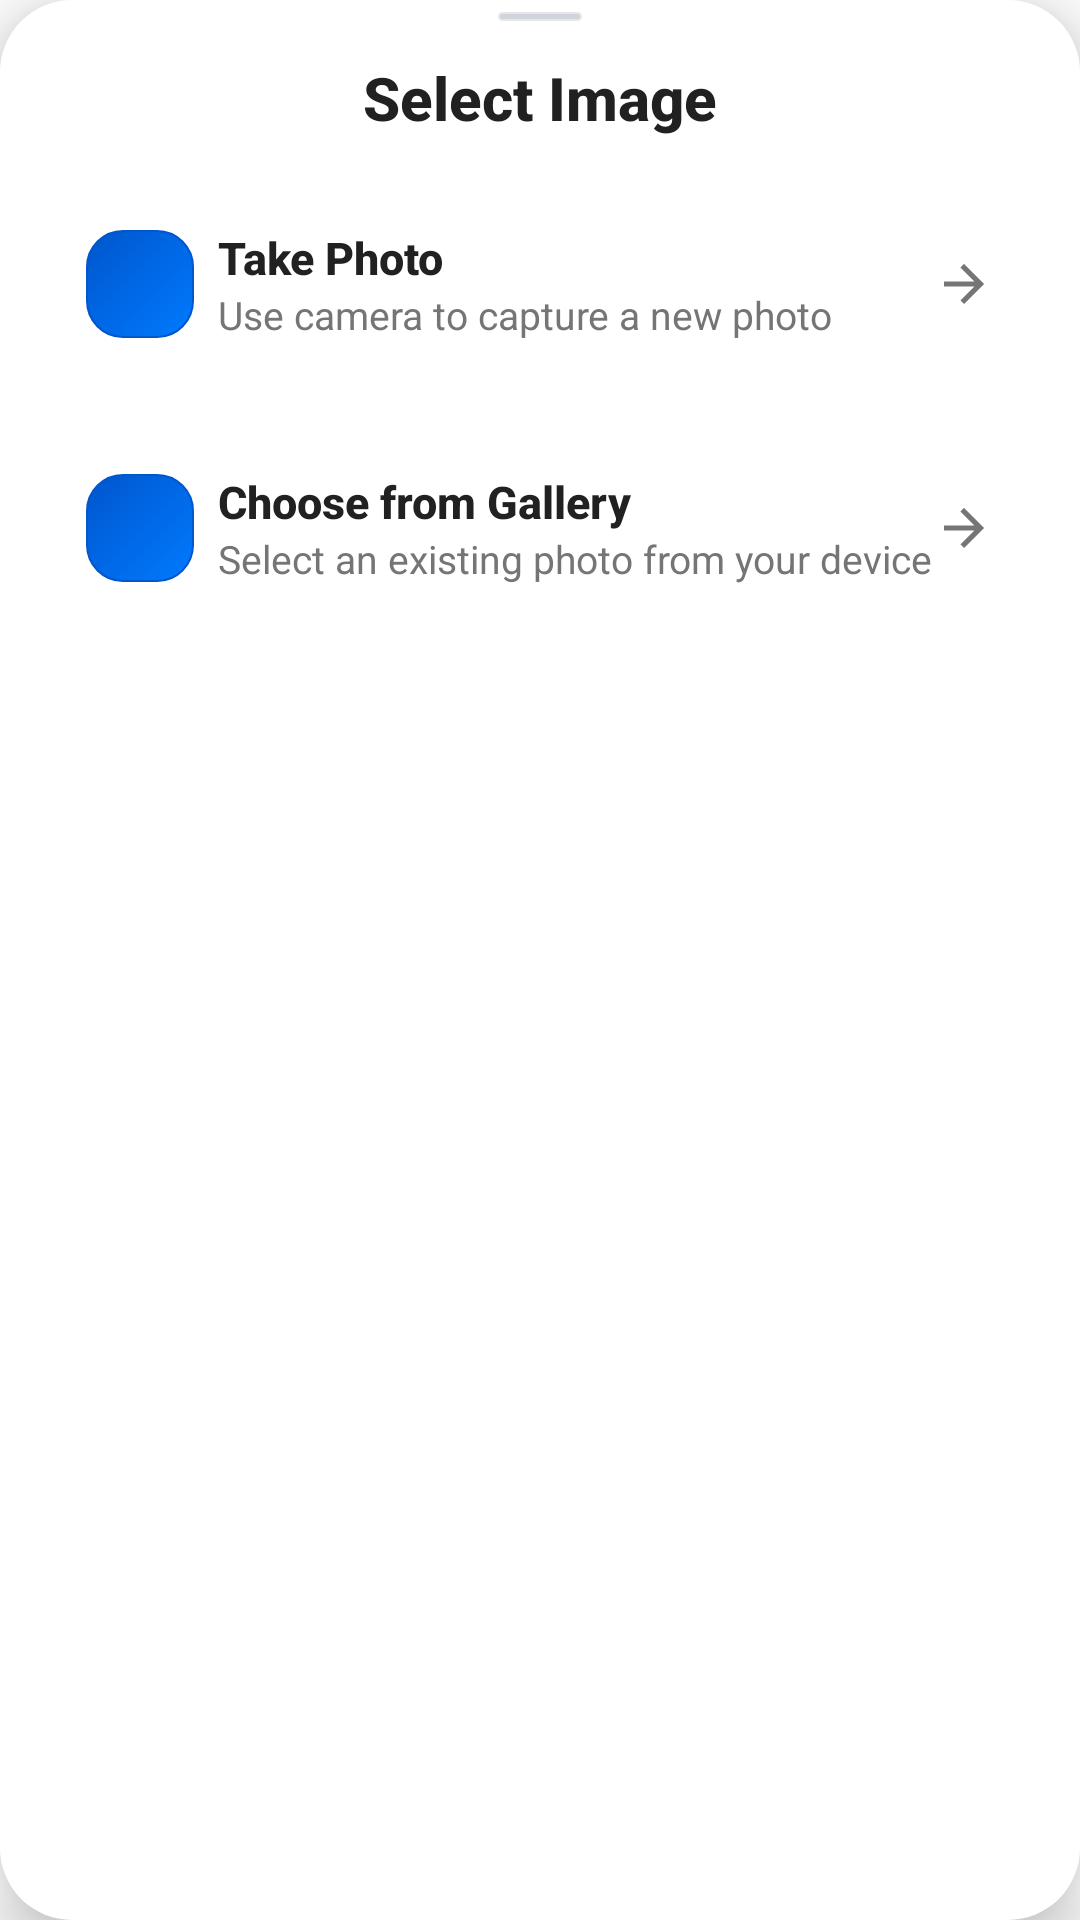

Point at icon controls on the screen. Image size 1080 x 1920, points as (x,y).
Arrow: (964,284), (964,528)
